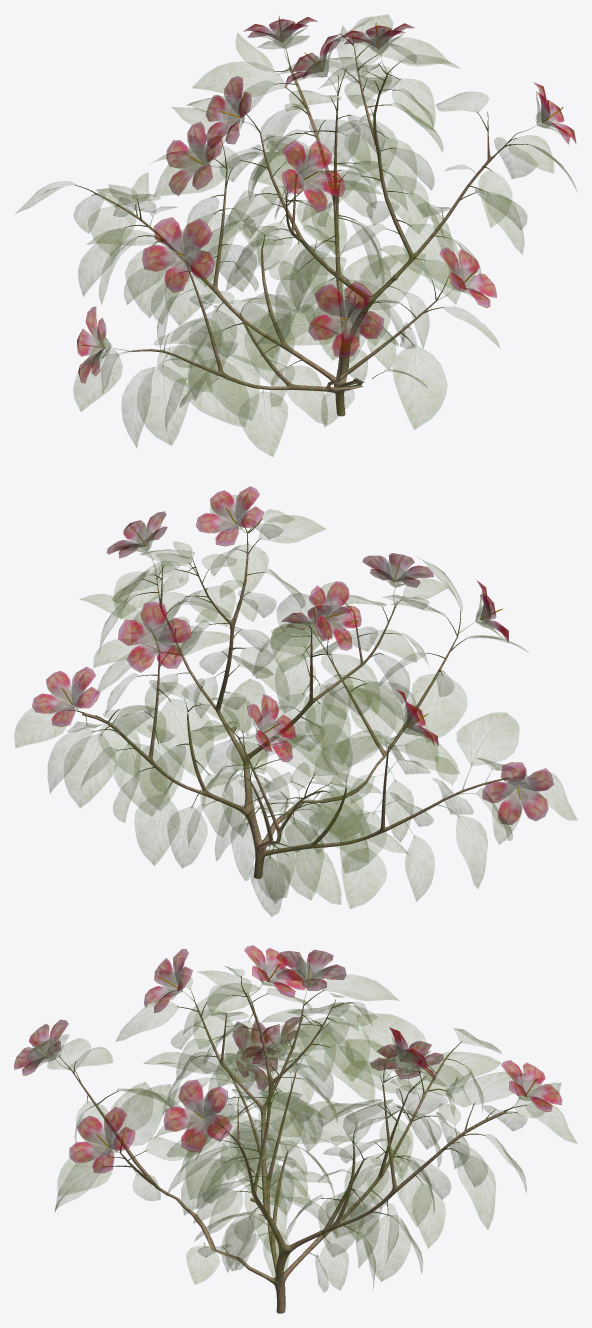
File: preview.glb
The picture shows the model from 3 angles, top to bottom: view 1: azimuth 30°, elevation 25°; view 2: azimuth 150°, elevation 25°; view 3: azimuth 270°, elevation 25°; orthographic projection. The views are drawn at different scales.
Visible parts, largest first — view 1: Plant_Hibiscus_rosa_sinensis_D_Leaf_glb, Plant_Hibiscus_rosa_sinensis_D_Flower_glb, Plant_Hibiscus_rosa_sinensis_D_Bark_glb, Plant_Hibiscus_rosa_sinensis_D_Stem_glb; view 2: Plant_Hibiscus_rosa_sinensis_D_Leaf_glb, Plant_Hibiscus_rosa_sinensis_D_Flower_glb, Plant_Hibiscus_rosa_sinensis_D_Bark_glb, Plant_Hibiscus_rosa_sinensis_D_Stem_glb; view 3: Plant_Hibiscus_rosa_sinensis_D_Leaf_glb, Plant_Hibiscus_rosa_sinensis_D_Flower_glb, Plant_Hibiscus_rosa_sinensis_D_Bark_glb, Plant_Hibiscus_rosa_sinensis_D_Stem_glb.
Boxes of the visible parts, bbox=[...] form: Plant_Hibiscus_rosa_sinensis_D_Leaf_glb: bbox=[15, 14, 576, 456]; Plant_Hibiscus_rosa_sinensis_D_Flower_glb: bbox=[77, 16, 576, 383]; Plant_Hibiscus_rosa_sinensis_D_Bark_glb: bbox=[97, 36, 516, 416]; Plant_Hibiscus_rosa_sinensis_D_Stem_glb: bbox=[75, 33, 528, 386]; Plant_Hibiscus_rosa_sinensis_D_Leaf_glb: bbox=[14, 495, 577, 916]; Plant_Hibiscus_rosa_sinensis_D_Flower_glb: bbox=[32, 486, 553, 824]; Plant_Hibiscus_rosa_sinensis_D_Bark_glb: bbox=[82, 533, 507, 878]; Plant_Hibiscus_rosa_sinensis_D_Stem_glb: bbox=[69, 518, 465, 857]; Plant_Hibiscus_rosa_sinensis_D_Leaf_glb: bbox=[26, 957, 577, 1291]; Plant_Hibiscus_rosa_sinensis_D_Flower_glb: bbox=[14, 945, 562, 1173]; Plant_Hibiscus_rosa_sinensis_D_Bark_glb: bbox=[73, 997, 507, 1313]; Plant_Hibiscus_rosa_sinensis_D_Stem_glb: bbox=[59, 976, 526, 1256].
Bounding box in the file's own units: 1.37 × 1.06 × 1.44.
4 materials, 3 textured.
